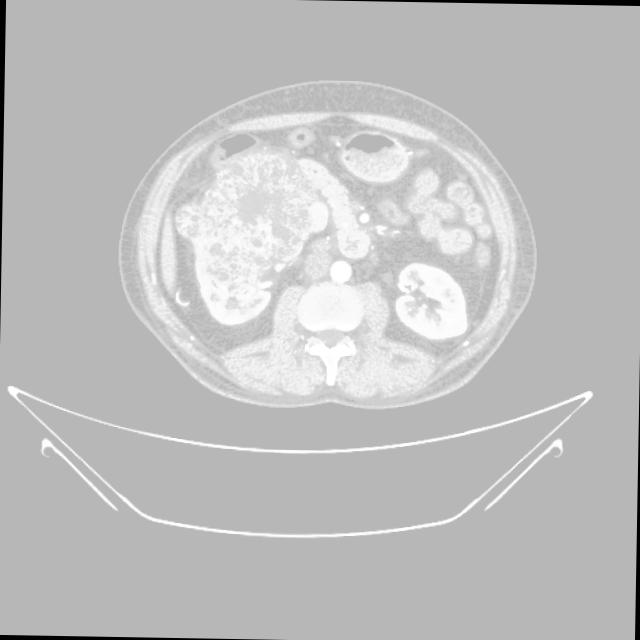TUMOR: (155, 155, 360, 311)
